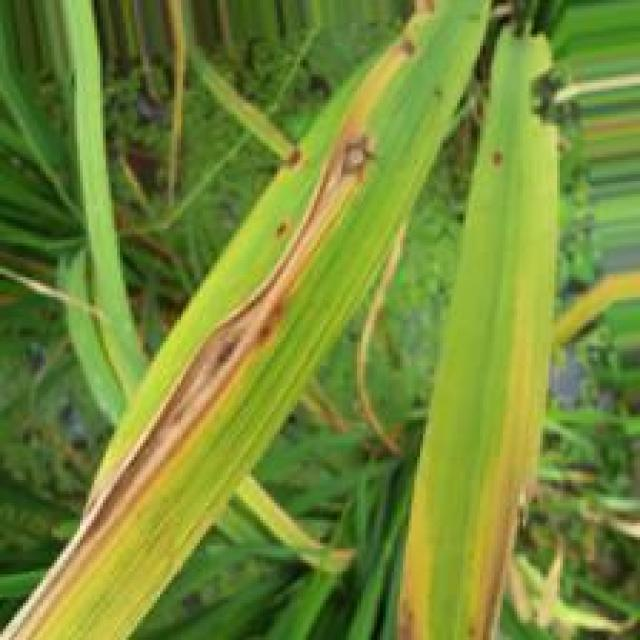Leaf_Scald: (0, 32, 422, 640), (458, 451, 532, 640)
